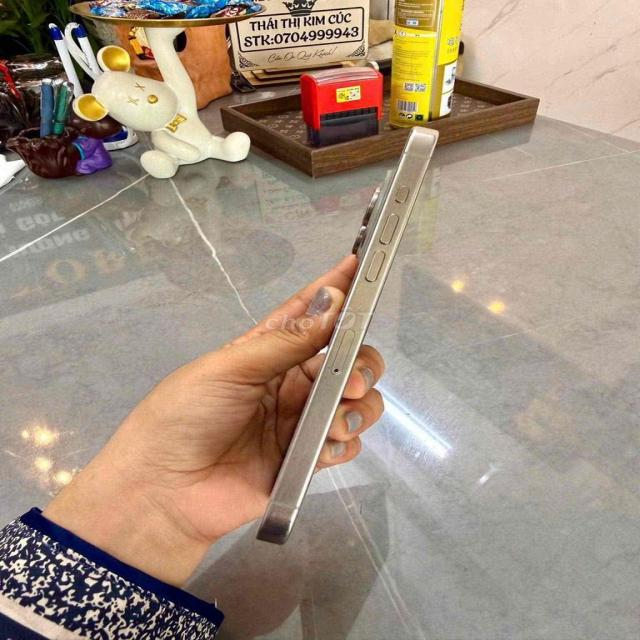gen_15: (180, 113, 449, 550)
